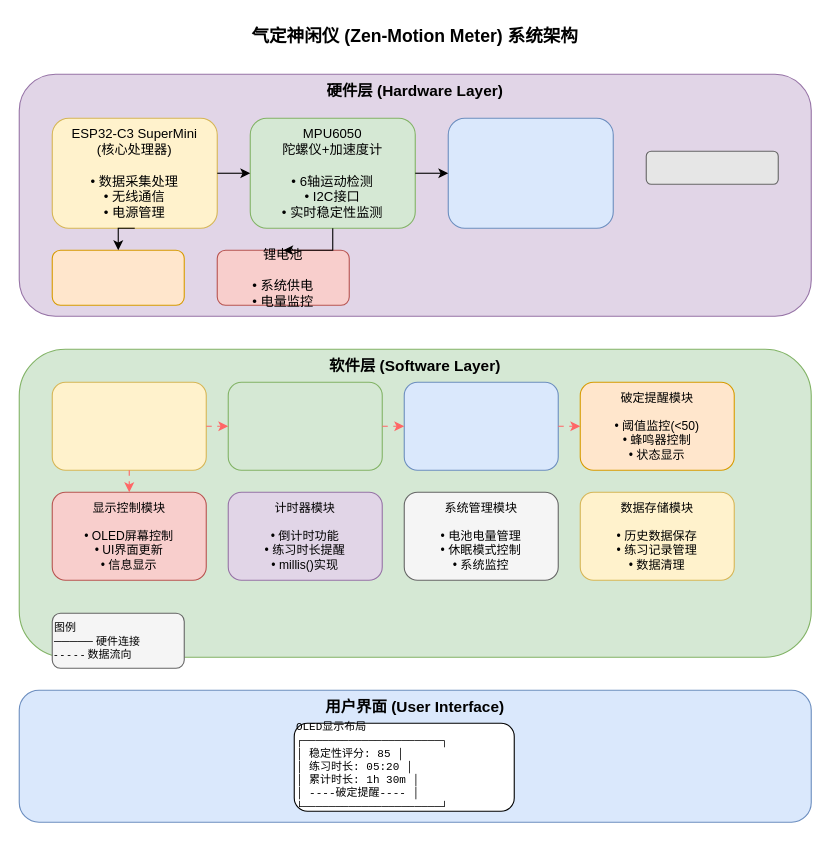
The diagram is 831 pixels wide and 842 high, and some of its shapes have lost their labels. The shapes that lost their labels are listed below. From the top down, each one's centre as x and y in pixels, then its label:
At point (530, 172): "OLED显示屏 0.96寸 SSD1306 • 稳定性评分显示 • 时长信息显示 • 状态提示显示".
At point (711, 167): "I2C总线".
At point (117, 277): "蜂鸣器 • 破定提醒 • 计时结束提示".
At point (128, 425): "数据采集模块 • MPU6050数据读取 • 传感器数据预处理 • Wire库".
At point (304, 425): "稳定性计算模块 • 加速度数据分析 • 标准差计算 • 评分(0-100)".
At point (480, 425): "时长记录模块 • 练习时长记录 • 累计时长统计 • 7日历史数据".
